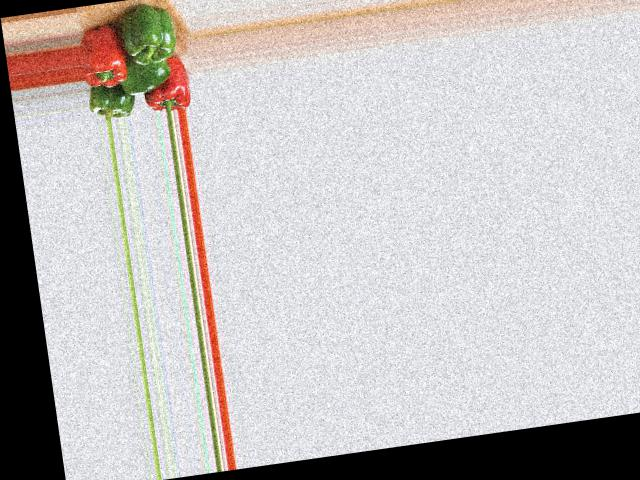bell_pepper: (77, 16, 131, 88)
